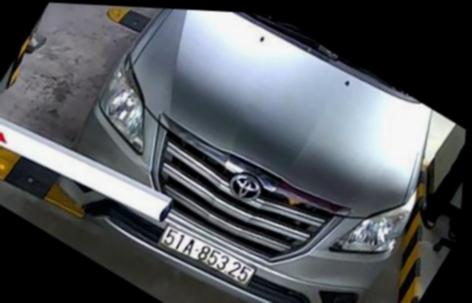License_Plate: (156, 226, 262, 290)
